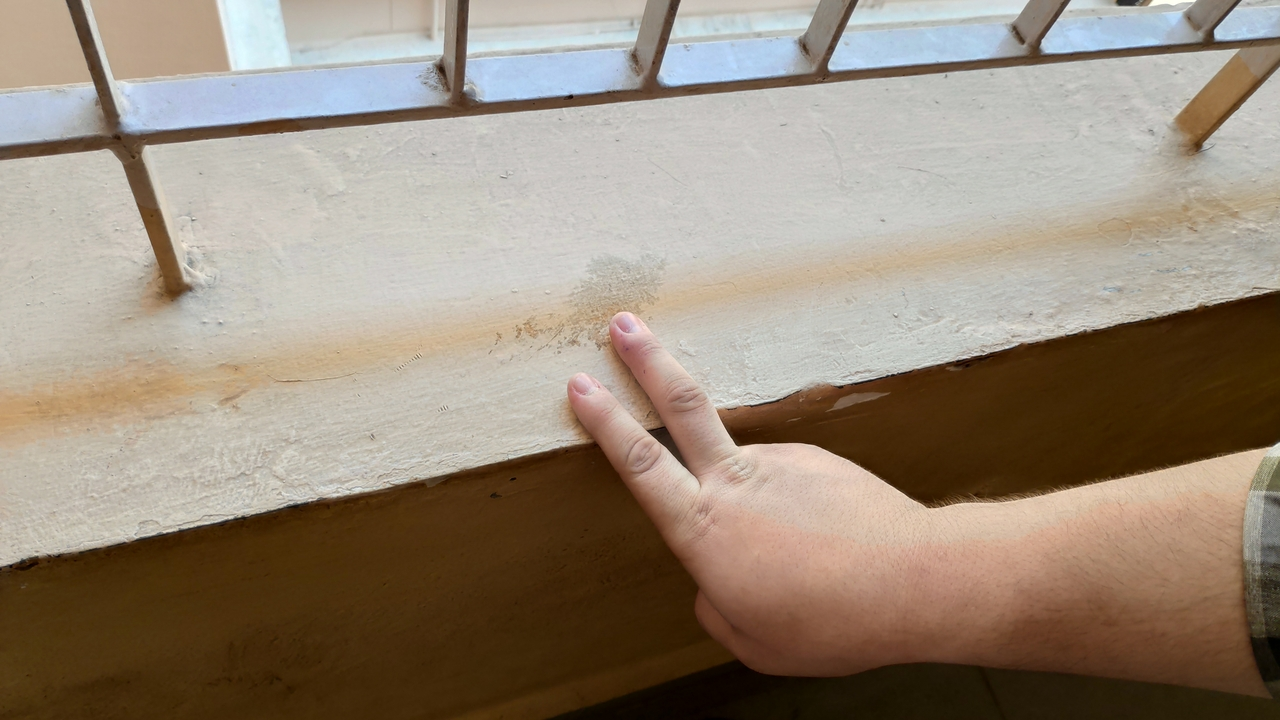fingertip: (602, 302, 654, 358), (554, 364, 606, 414)
